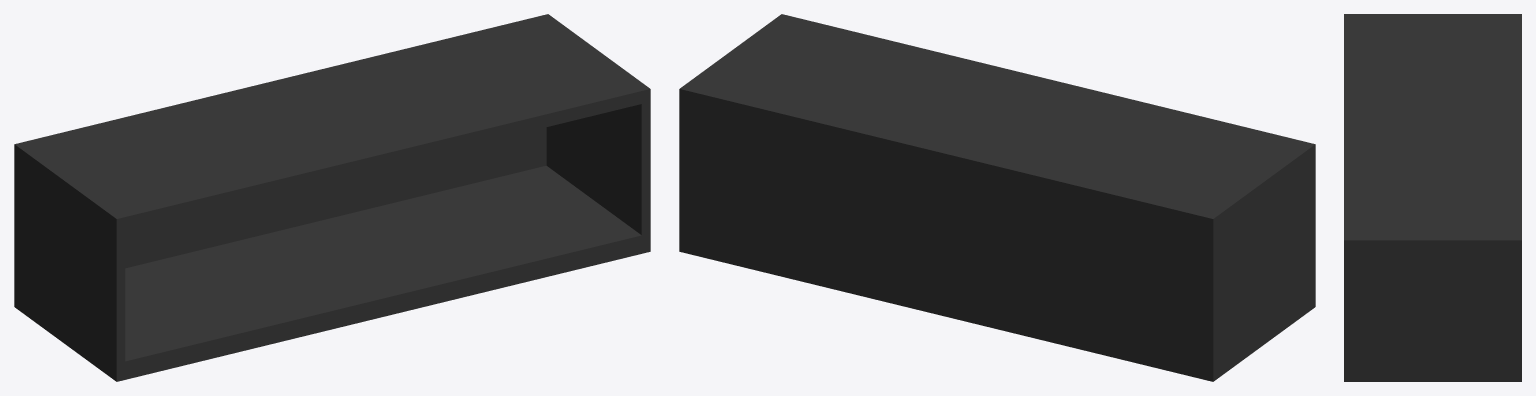
The model's file is Wall_Shelf_1.obj.
3 views of the same model, side by side, from view 1: azimuth 30°, elevation 25°; view 2: azimuth 150°, elevation 25°; view 3: azimuth 270°, elevation 25° (orthographic). The views are drawn at different scales.
Parts seen in each view (by area): view 1: Wall_Shelf_1; view 2: Wall_Shelf_1; view 3: Wall_Shelf_1.
Boxes of the visible parts, box(x1,y1,x2,y2) form: Wall_Shelf_1: box(14, 14, 650, 381); Wall_Shelf_1: box(679, 14, 1315, 381); Wall_Shelf_1: box(1344, 14, 1521, 381).
Size of the model in its own units: 1.37 by 0.3981 by 0.4532.
